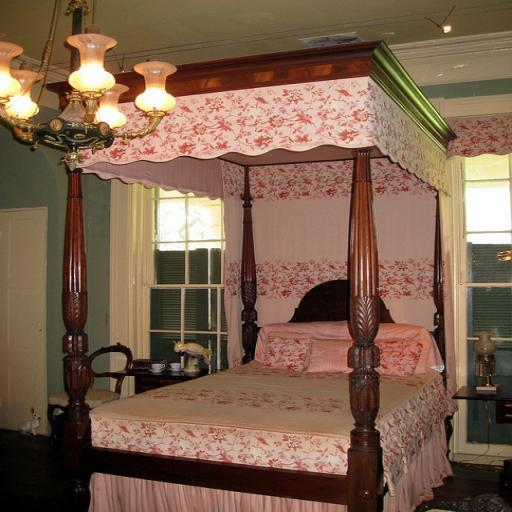bed: (51, 39, 500, 512)
